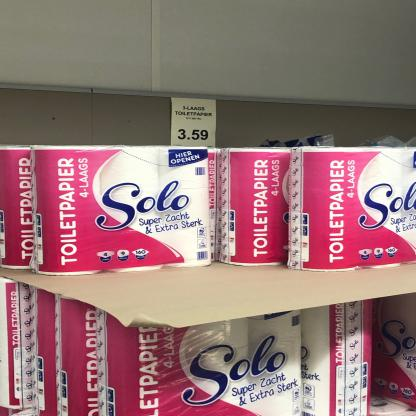prtg: (172, 98, 217, 149)
